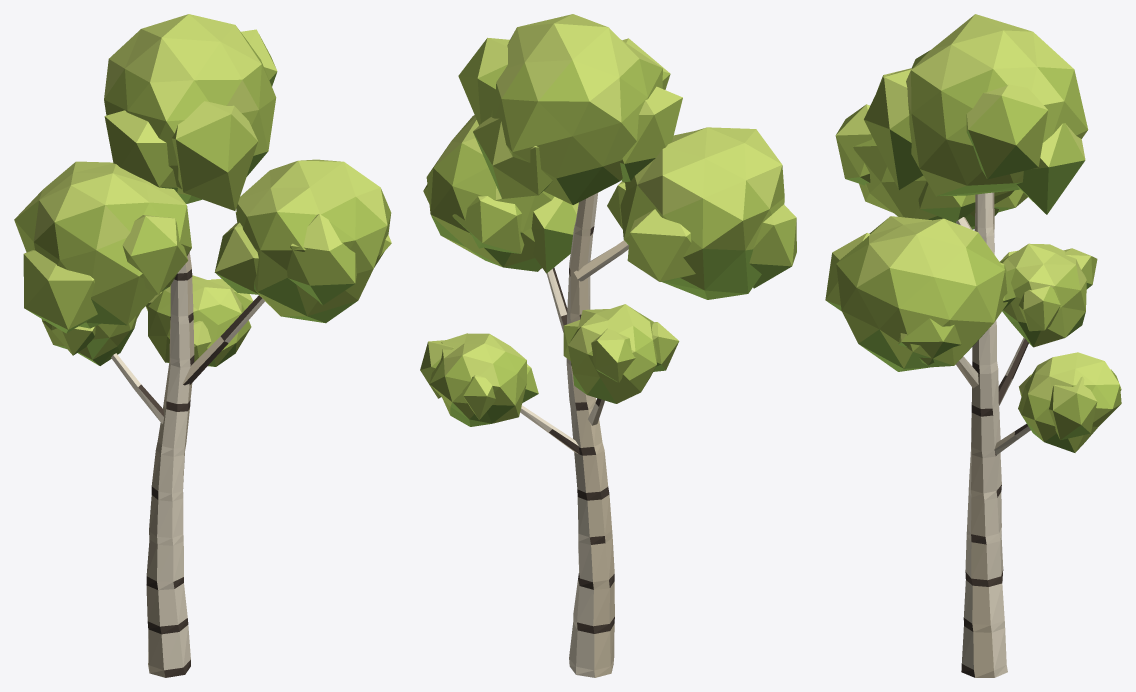
Rendered from FMS_Tree_Birch.fbx.
3 renders of one model, left to right at view 1: azimuth 30°, elevation 25°; view 2: azimuth 150°, elevation 25°; view 3: azimuth 270°, elevation 25°, orthographic. The views are drawn at different scales.
Parts seen in each view (by area): view 1: FMS_Tree_Birch; view 2: FMS_Tree_Birch; view 3: FMS_Tree_Birch.
Boxes of the visible parts, x1,y1,x2,y2 form: FMS_Tree_Birch: (14, 14, 391, 677); FMS_Tree_Birch: (420, 14, 796, 677); FMS_Tree_Birch: (825, 14, 1121, 677).
Bounding box in the file's own units: 3.49 × 5.93 × 2.43.
